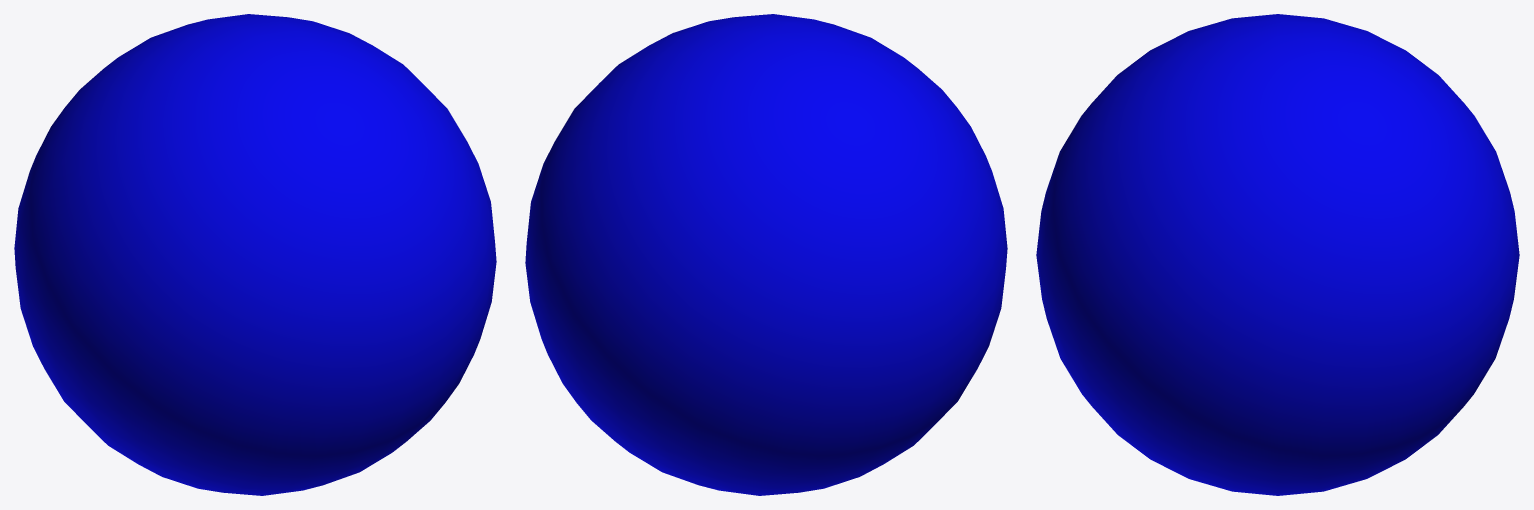
File: Water.fbx
The picture shows the model from 3 angles, left to right: view 1: azimuth 30°, elevation 25°; view 2: azimuth 150°, elevation 25°; view 3: azimuth 270°, elevation 25°; orthographic projection.
Visible parts, largest first — view 1: Water; view 2: Water; view 3: Water.
Boxes of the visible parts, <box> form: Water: <box>14,14,496,495</box>; Water: <box>525,14,1007,495</box>; Water: <box>1036,14,1519,495</box>.
Size of the model in its own units: 100 by 100 by 100.
